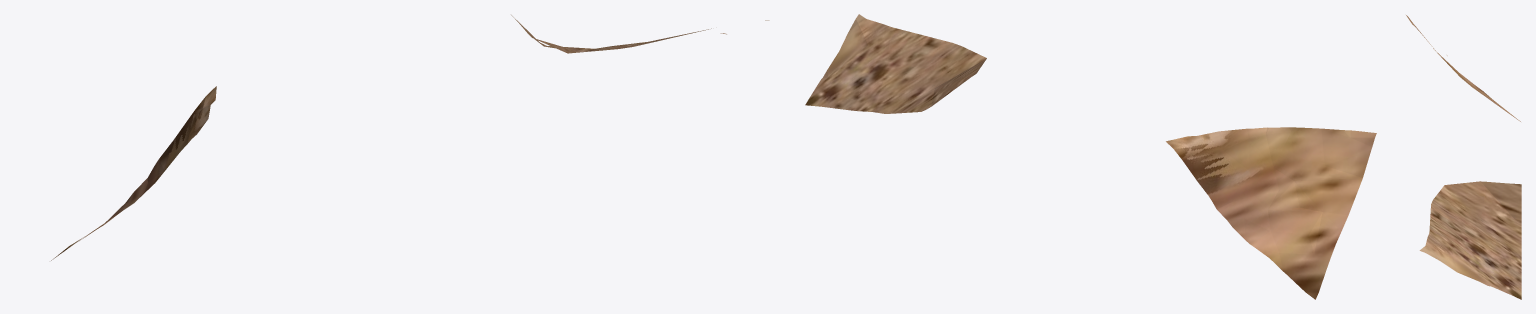
The picture shows the model from 3 angles, left to right: view 1: azimuth 30°, elevation 25°; view 2: azimuth 150°, elevation 25°; view 3: azimuth 270°, elevation 25°; orthographic projection. The views are drawn at different scales.
Bounding box in the file's own units: 1.04 × 0.2385 × 0.2172.
Materials: 1 (1 with a texture image).
